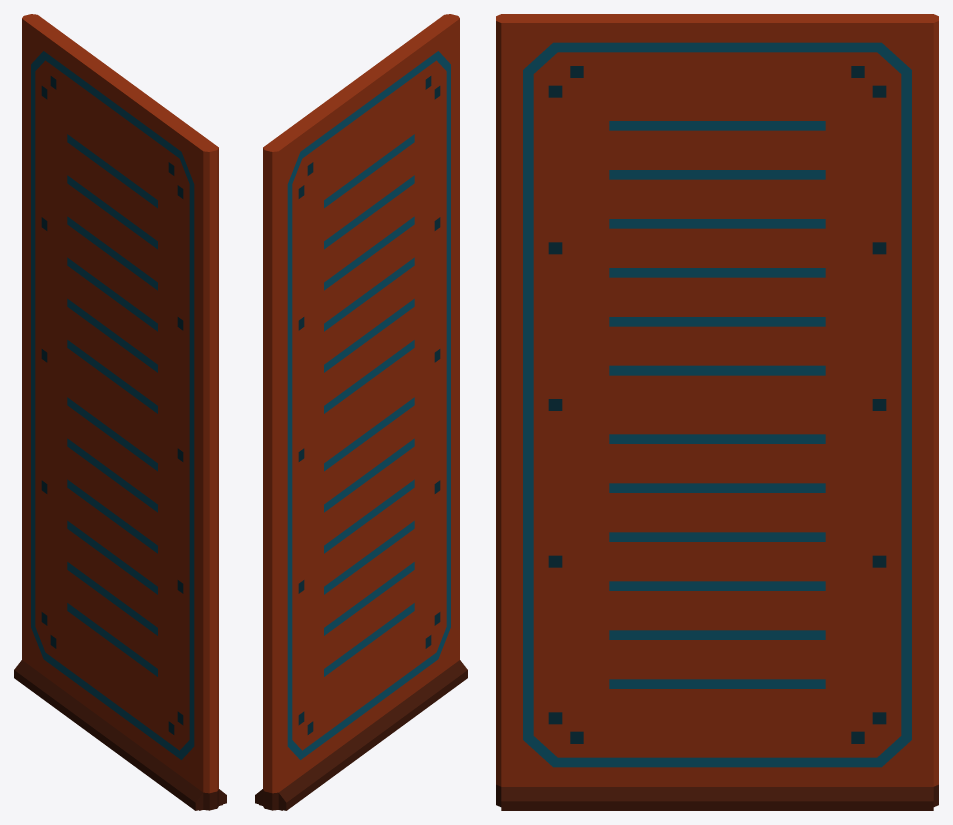
The model's file is Wall_1-1.fbx.
3 renders of one model, left to right at view 1: azimuth 30°, elevation 25°; view 2: azimuth 150°, elevation 25°; view 3: azimuth 270°, elevation 25°, orthographic. The views are drawn at different scales.
Parts seen in each view (by area): view 1: Wall_1-1; view 2: Wall_1-1; view 3: Wall_1-1.
Part boxes in pixels (x1=…): Wall_1-1: x1=14, y1=14, x2=226, y2=810; Wall_1-1: x1=255, y1=14, x2=467, y2=810; Wall_1-1: x1=496, y1=14, x2=938, y2=810.
Bounding box in the file's own units: 0.4 × 4.1 × 8.01.
